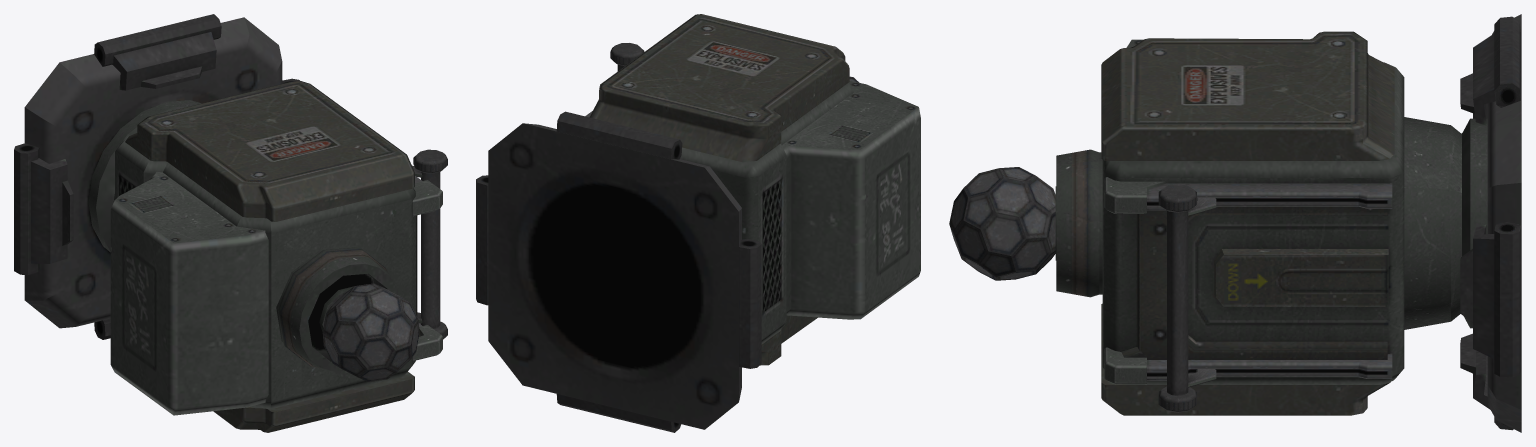
Rendered from t6_wpn_trophy_system_view_LOD0.obj.
The picture shows the model from 3 angles, left to right: view 1: azimuth 30°, elevation 25°; view 2: azimuth 150°, elevation 25°; view 3: azimuth 270°, elevation 25°; orthographic projection. The views are drawn at different scales.
Parts seen in each view (by area): view 1: mtl_t6_wpn_trophy_system; view 2: mtl_t6_wpn_trophy_system; view 3: mtl_t6_wpn_trophy_system.
Part boxes in pixels (x1,y1,x2,y2): mtl_t6_wpn_trophy_system: (14,14,447,432); mtl_t6_wpn_trophy_system: (476,14,920,432); mtl_t6_wpn_trophy_system: (949,14,1521,432).
Size of the model in its own units: 34.51 by 32.9 by 49.2.
